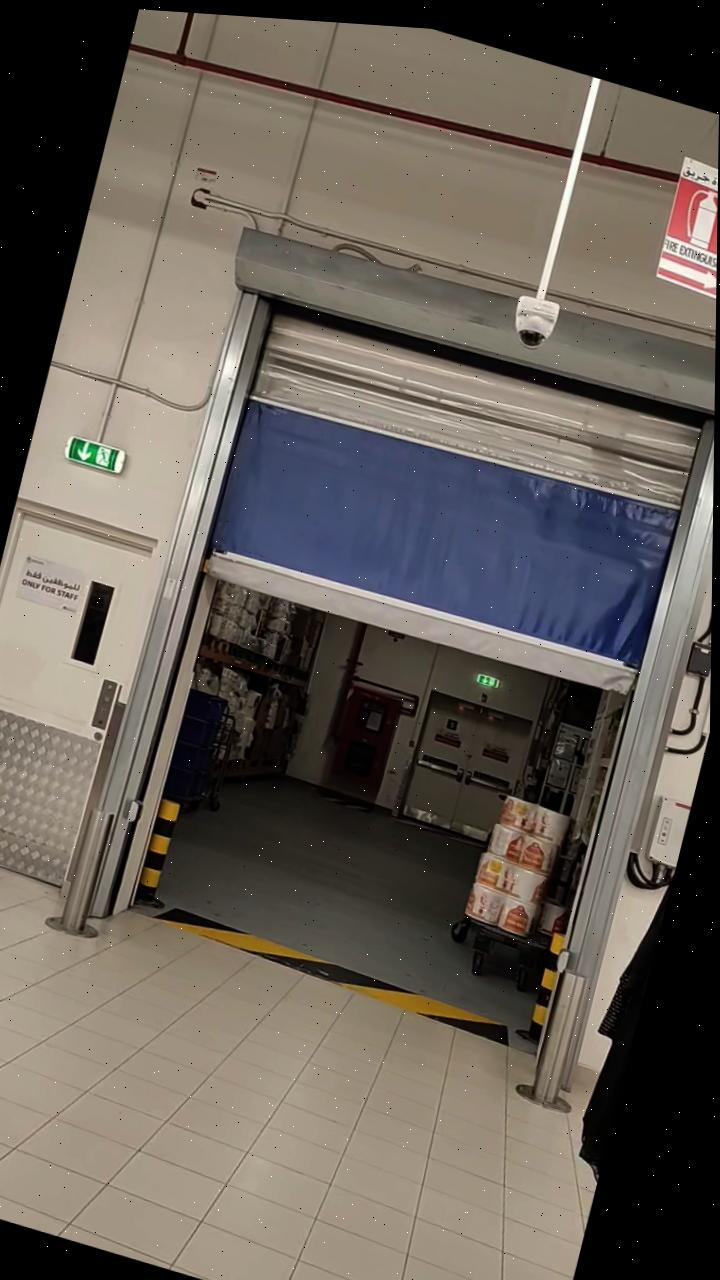Strip: (158, 893, 520, 1041)
